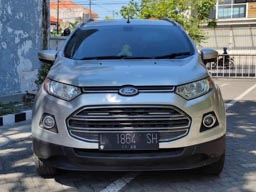plat: (98, 132, 159, 143)
